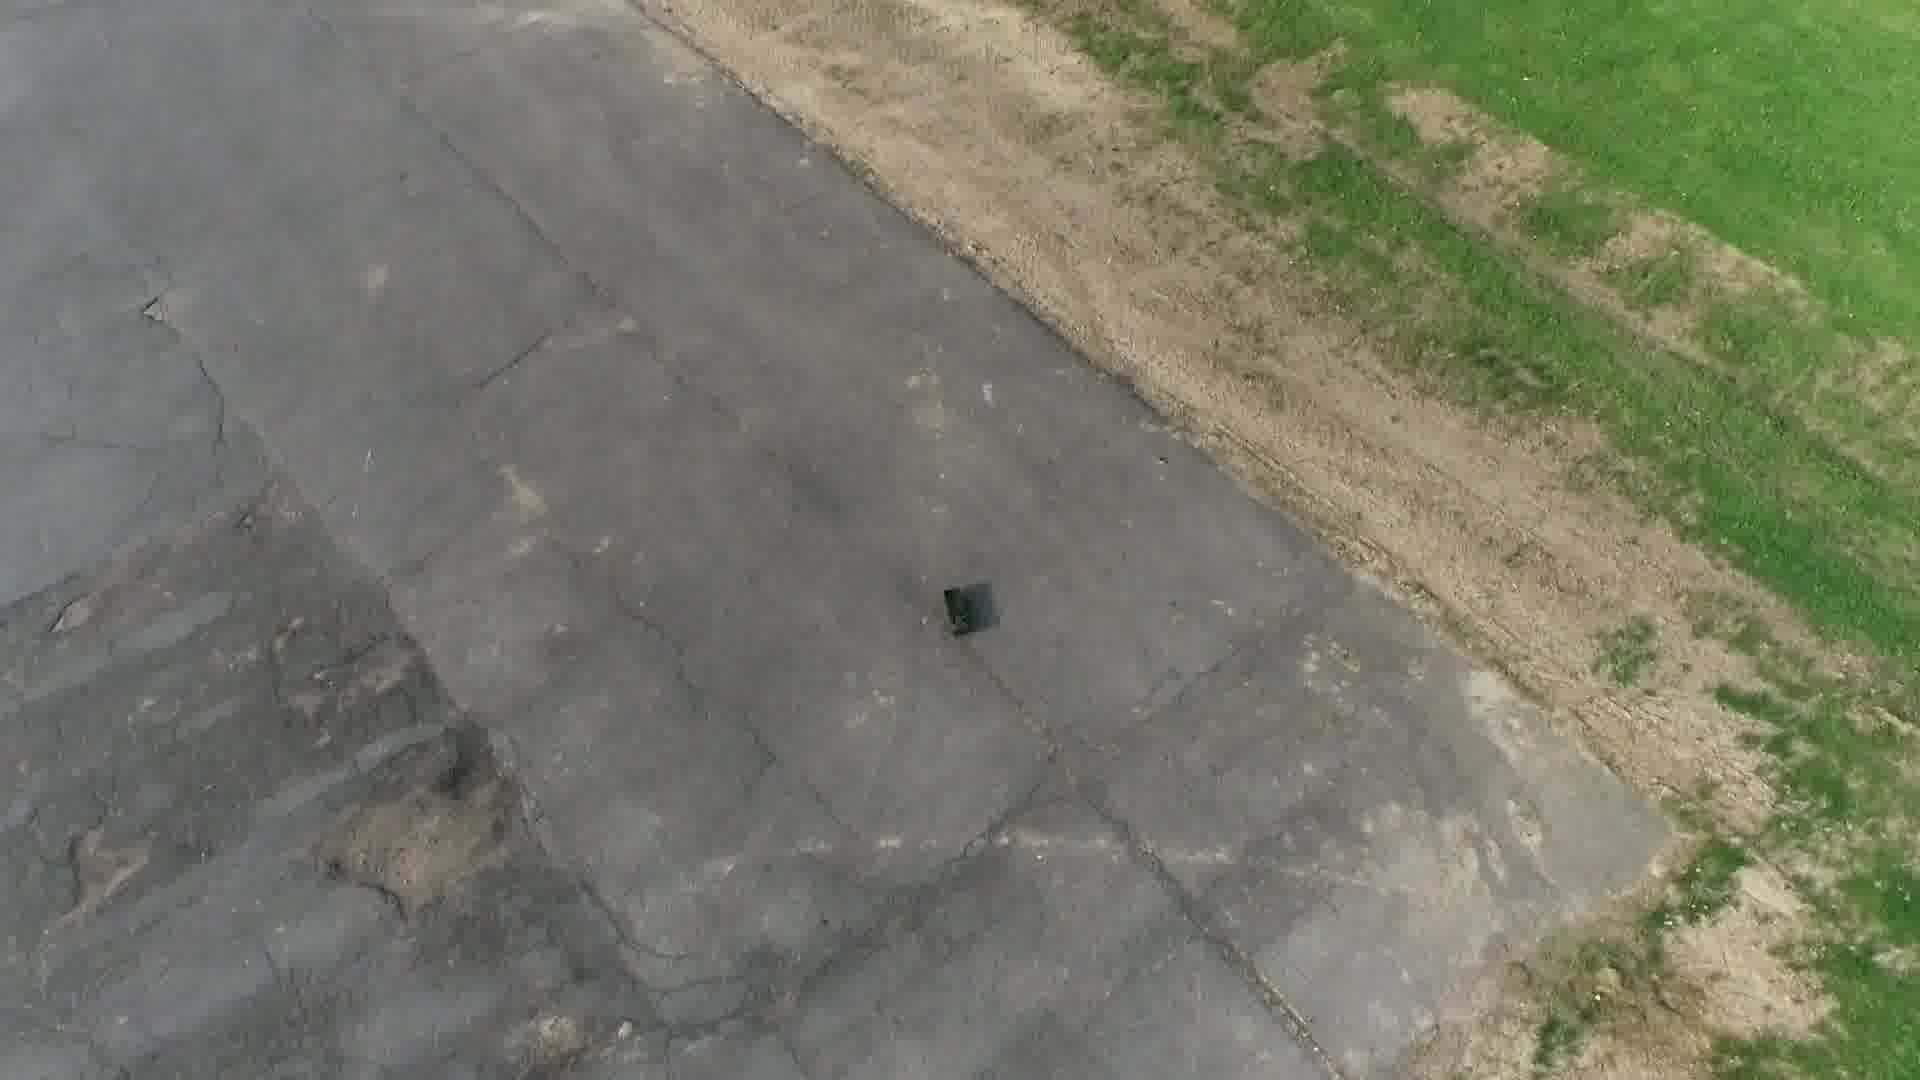transporter9: (940, 585, 971, 638)
